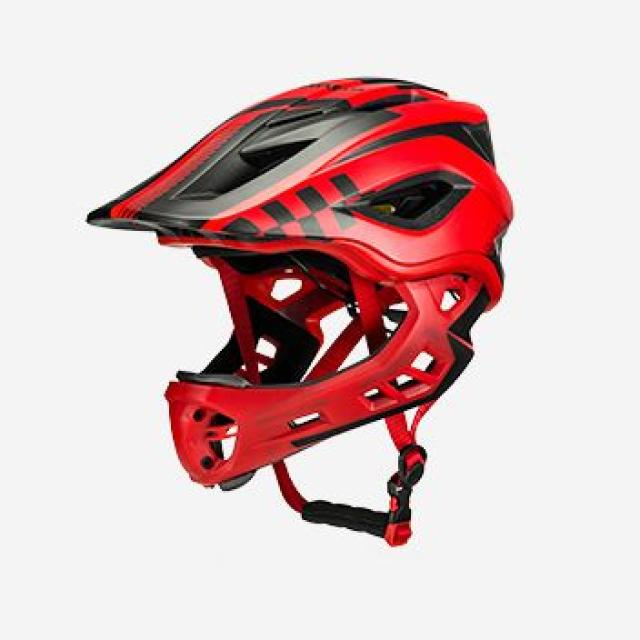Helmet: (82, 71, 518, 547)
